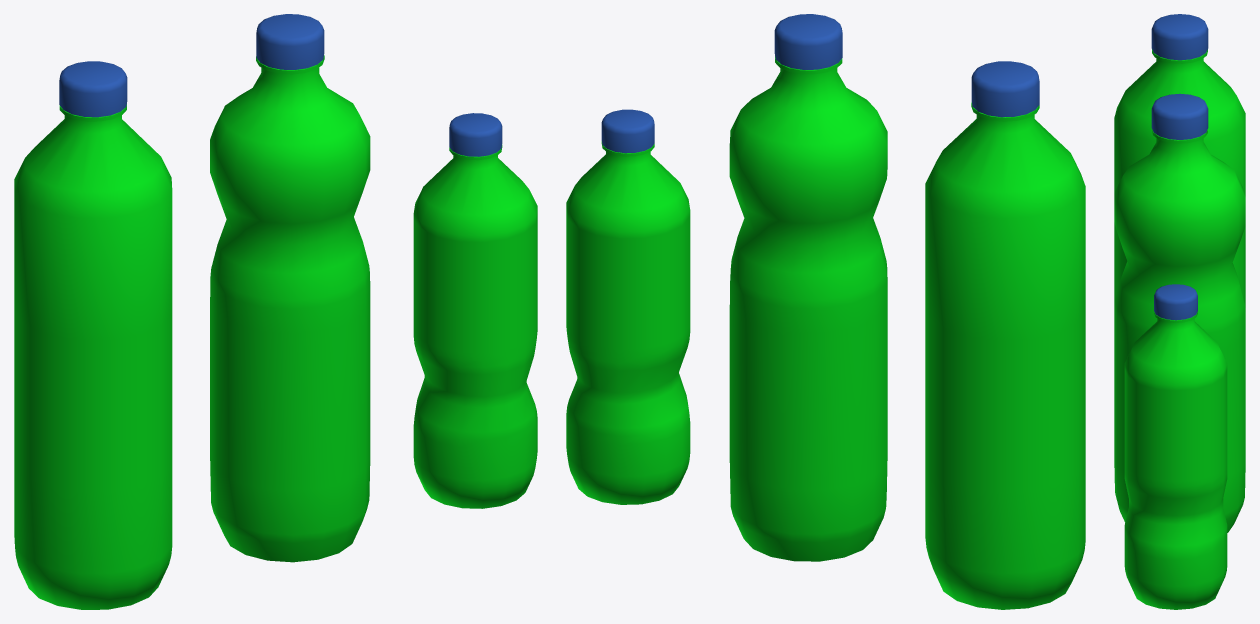
The model's file is Bottle.fbx.
3 views of the same model, side by side, from view 1: azimuth 30°, elevation 25°; view 2: azimuth 150°, elevation 25°; view 3: azimuth 270°, elevation 25° (orthographic). The views are drawn at different scales.
Visible parts, largest first — view 1: Cylinder.004, Cylinder.007; view 2: Cylinder.004, Cylinder.007; view 3: Cylinder.004, Cylinder.007.
Boxes of the visible parts, x1,y1,x2,y2 form: Cylinder.004: (14,55,537,609); Cylinder.007: (59,14,502,156); Cylinder.004: (566,56,1085,609); Cylinder.007: (601,14,1039,153); Cylinder.004: (1114,49,1245,609); Cylinder.007: (1151,14,1208,320).
Bounding box in the file's own units: 24.5 × 23.74 × 6.74.
